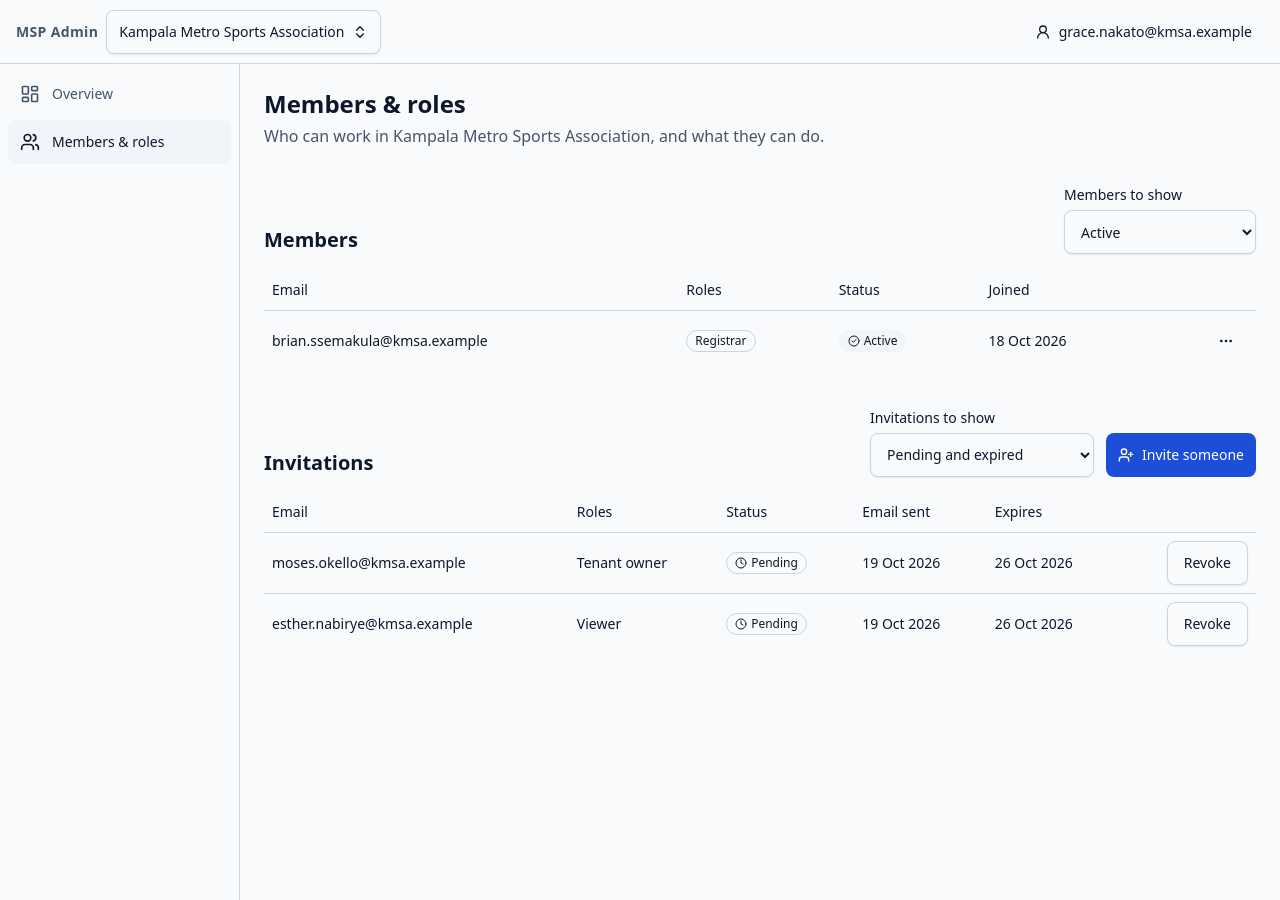
Test: members & roles › keeps the last-owner refusal in the dialog
expect the text "brian.ssemakula@kmsa.example" is shown: met, box [272,330,488,350]
Press the mouse on the button named "Change brian.ssemakula@kmsa.example" at (1226, 340), box [1204,318,1248,362]
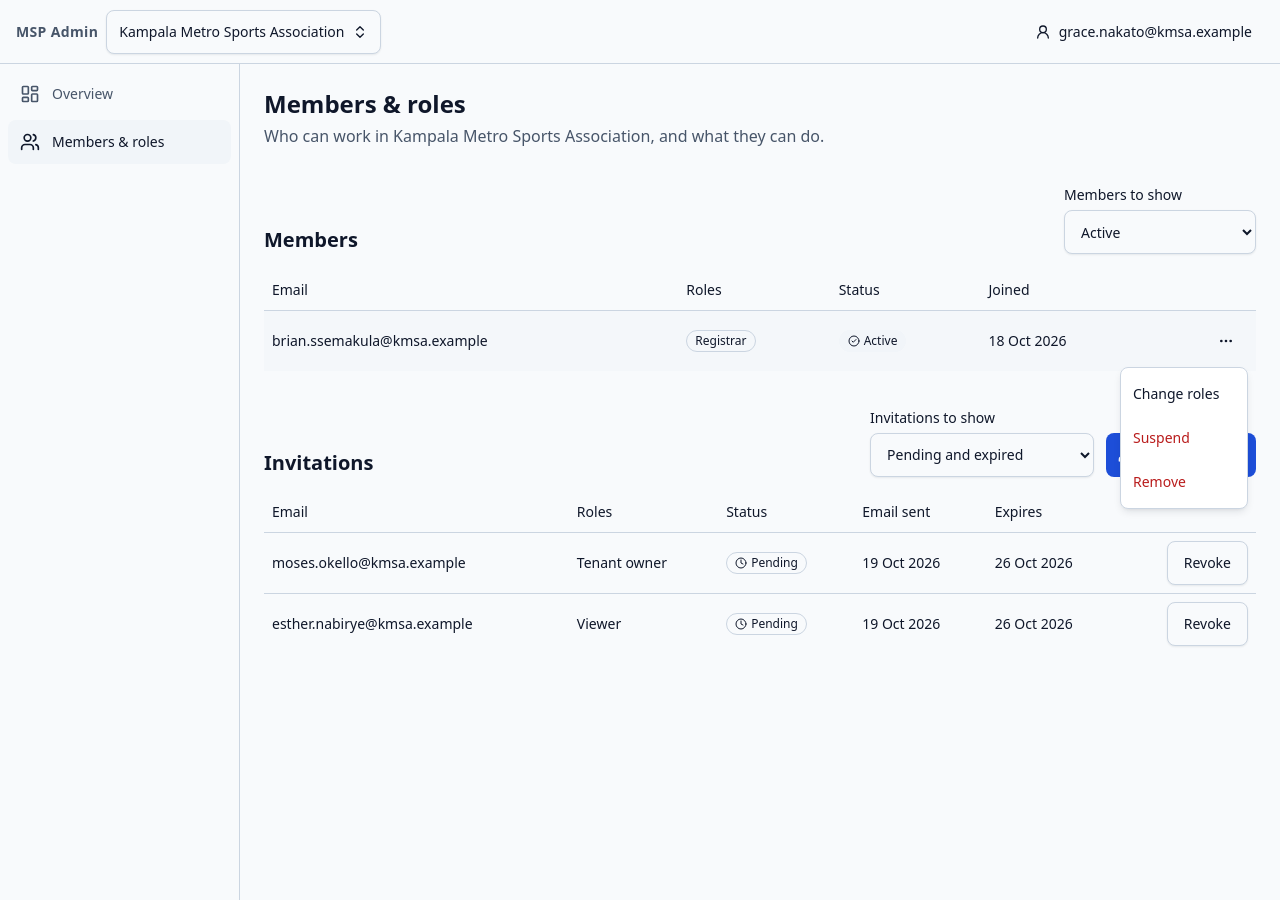
Click the menu item "Remove". click: (1159, 482)
box: [1133,472,1186,491]
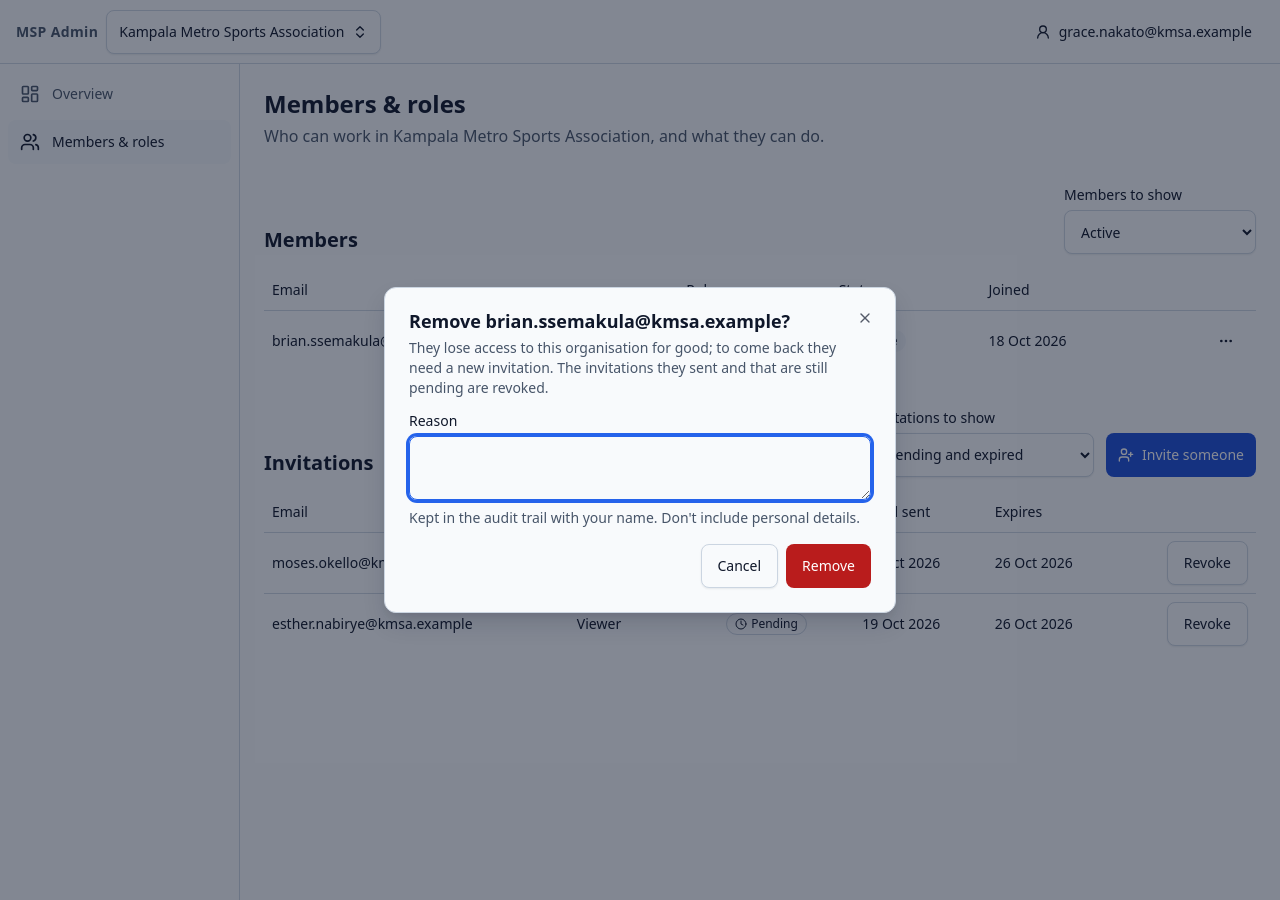
Type "Duplicate account" into the text box labelled "Reason". click: (640, 468)
box: [409,436,871,500]
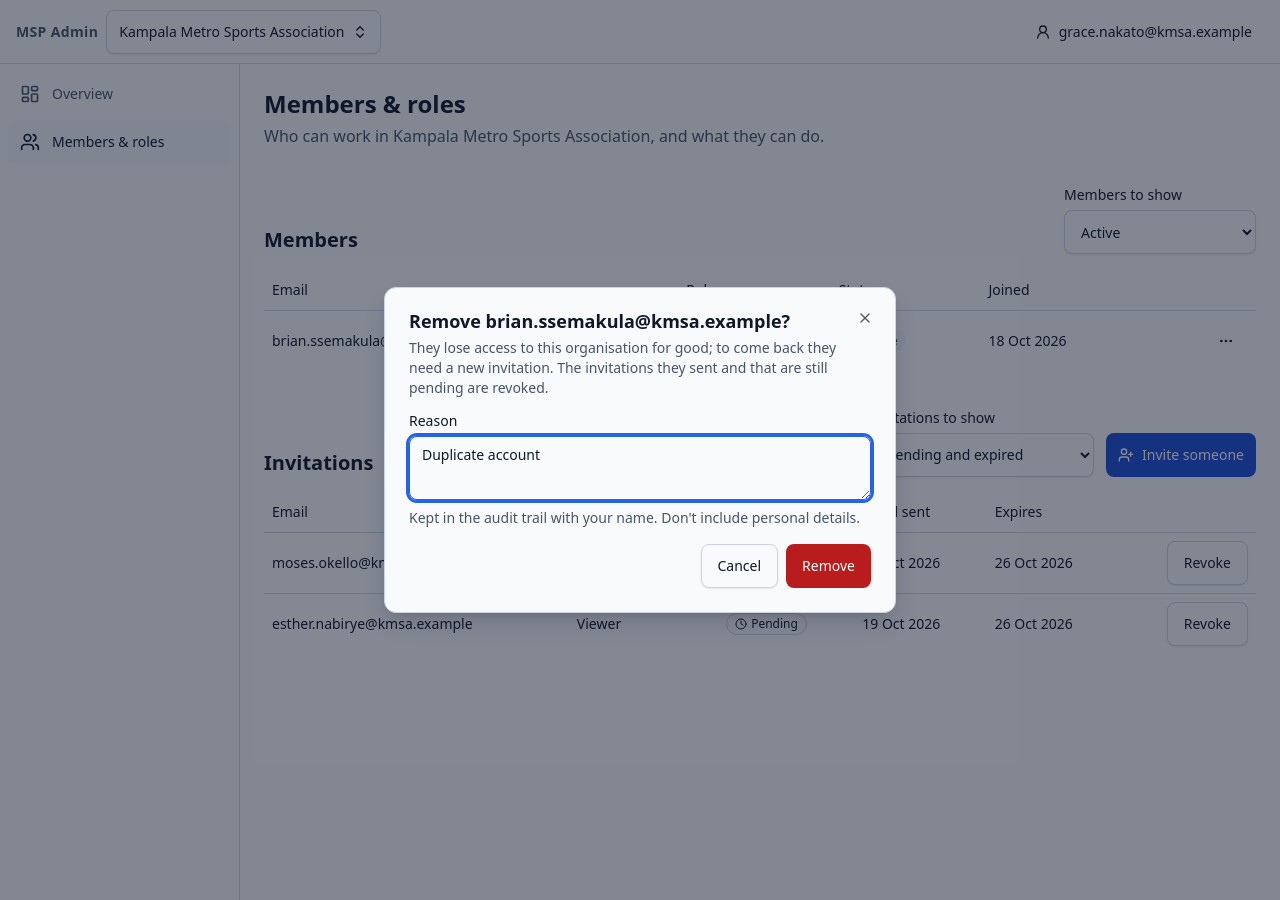
Click the button "Remove". click: (829, 566)
box: [786,544,871,588]
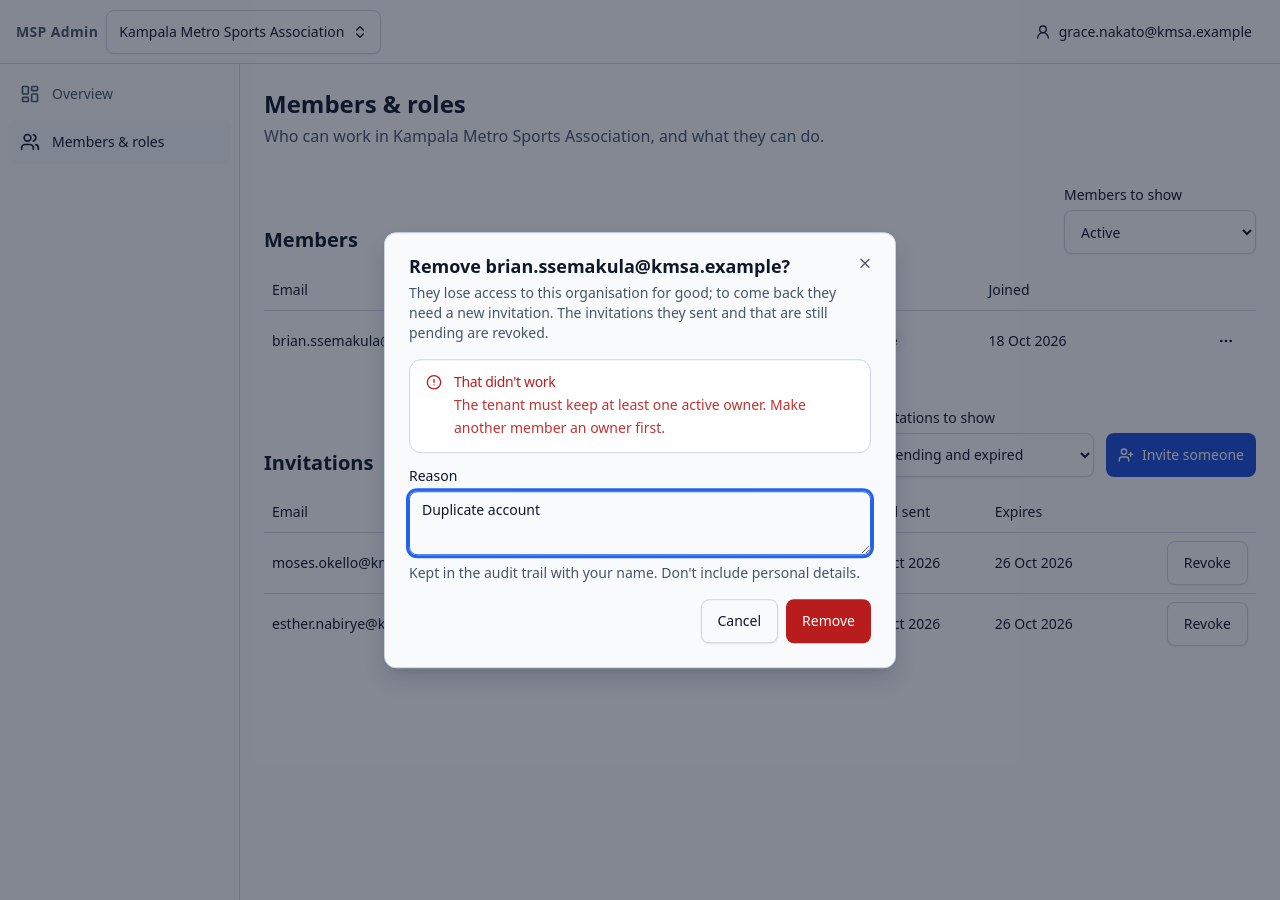
expect the dialog is shown: met, box [384,232,896,668]
expect the text "The tenant must keep at least one active owner. Make another member an owner first." is shown: met, box [454,395,806,437]
